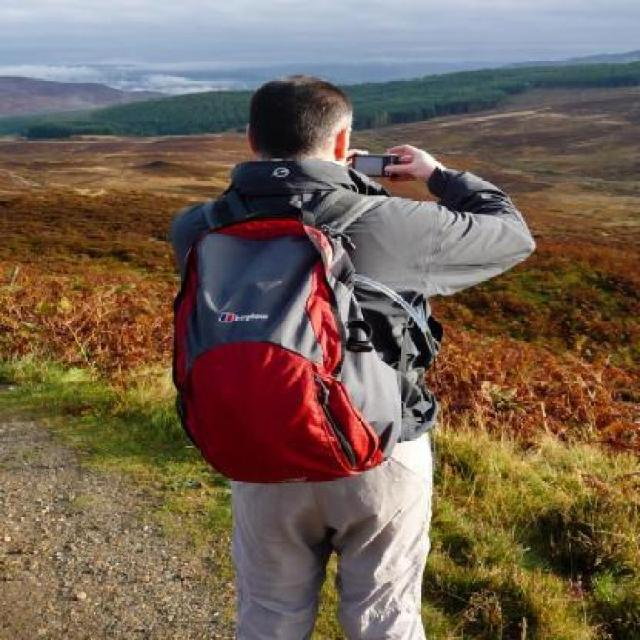backpack: (172, 203, 410, 491)
